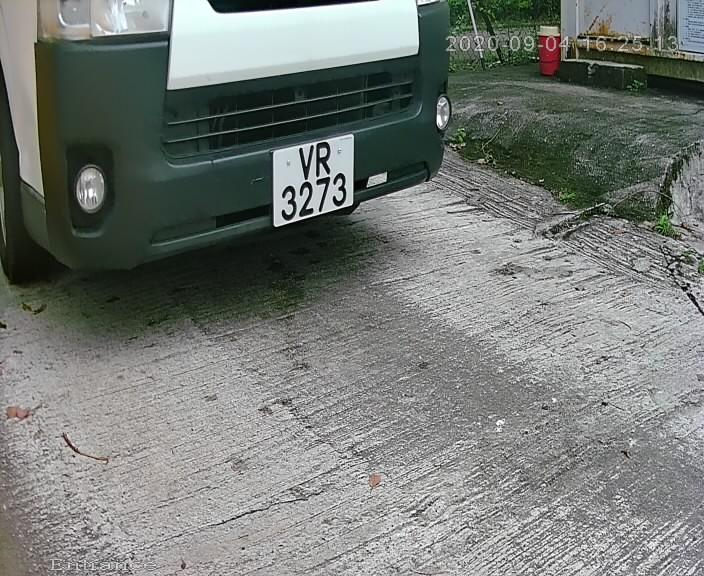License Plate: (261, 134, 365, 229)
